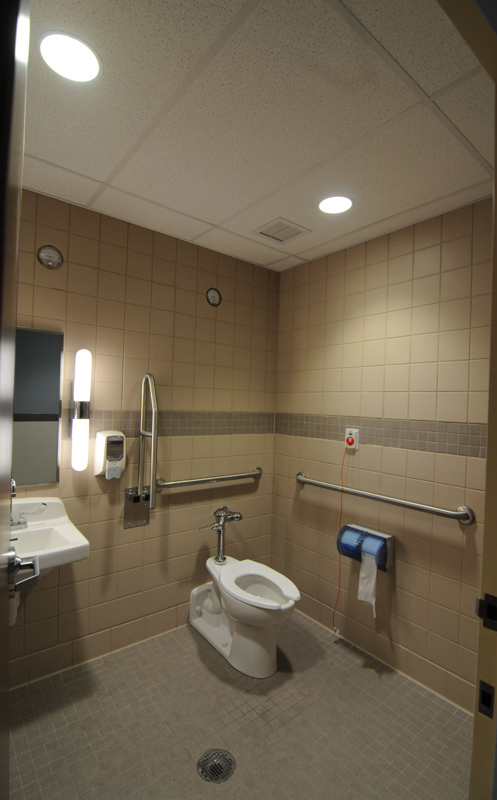dispenser: (336, 525, 394, 608), (98, 433, 126, 487)
door_handle: (4, 545, 42, 590)
restroom_assist_bar: (295, 470, 497, 525), (129, 368, 161, 525), (156, 466, 267, 495)
sink: (1, 500, 90, 591)
toilet: (189, 553, 302, 679)
toilet_handle: (191, 518, 222, 540)
